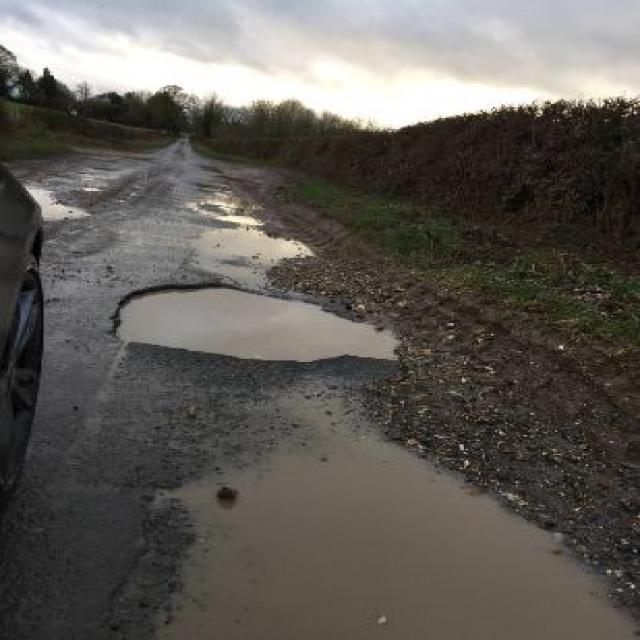pothole: (132, 401, 638, 637), (101, 273, 412, 365), (182, 188, 317, 267)
